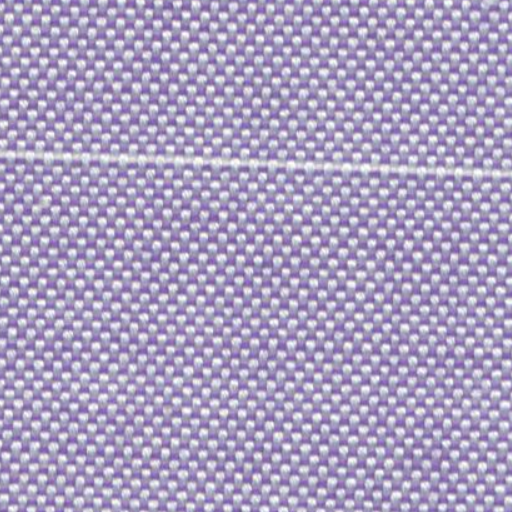TuoSha: (12, 118, 500, 210)
